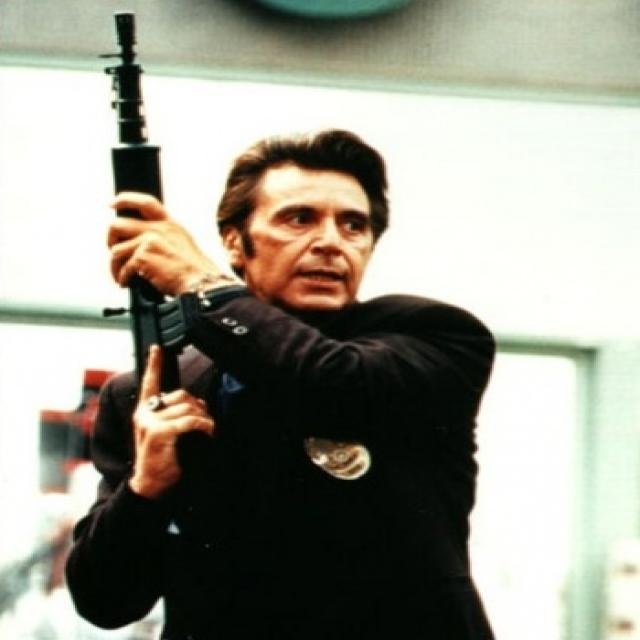rifle: (94, 6, 237, 560)
